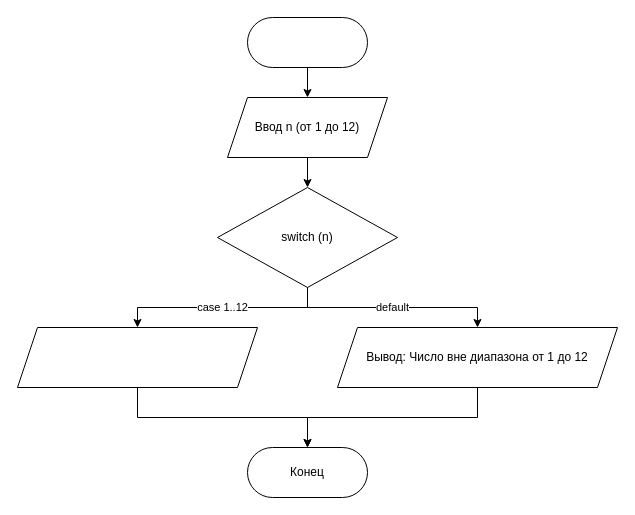
Image size: 635x515. Some labels were removed from this diagram. Here are the shapes that lost their labels. From the top down, the centre of each, then its label:
At pixel 307 42: "Начало".
At pixel 137 357: "Вывод римского числа (I, II, ..., XII)".
